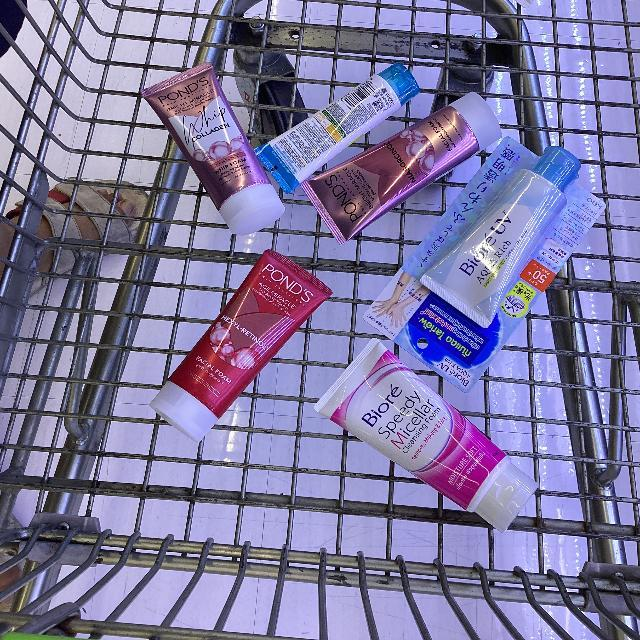Squeeze Tube: (121, 32, 640, 554)
